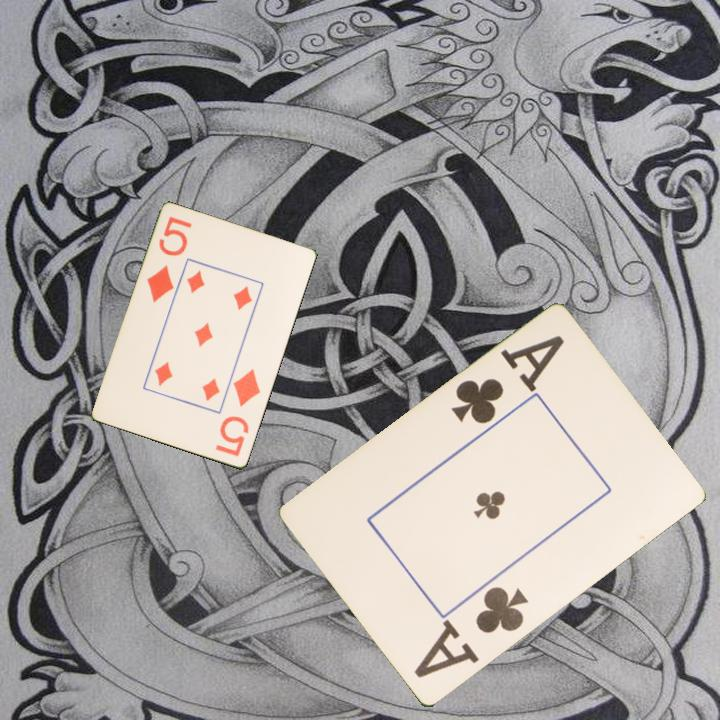5d: (212, 365, 264, 460), (143, 213, 195, 306)
Ac: (410, 583, 532, 682), (447, 332, 567, 428)
